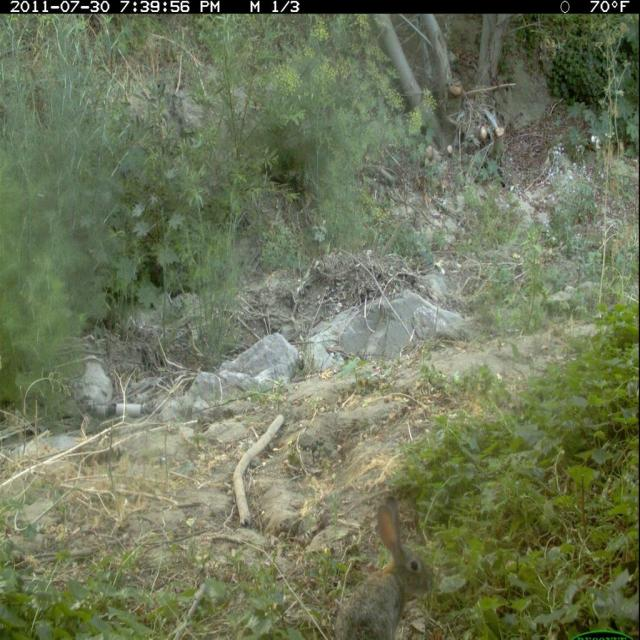rabbit: (329, 497, 449, 640)
